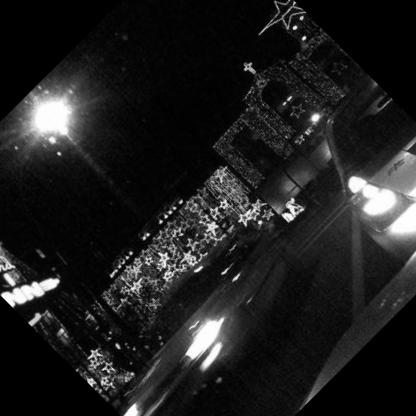car: (274, 62, 416, 267)
